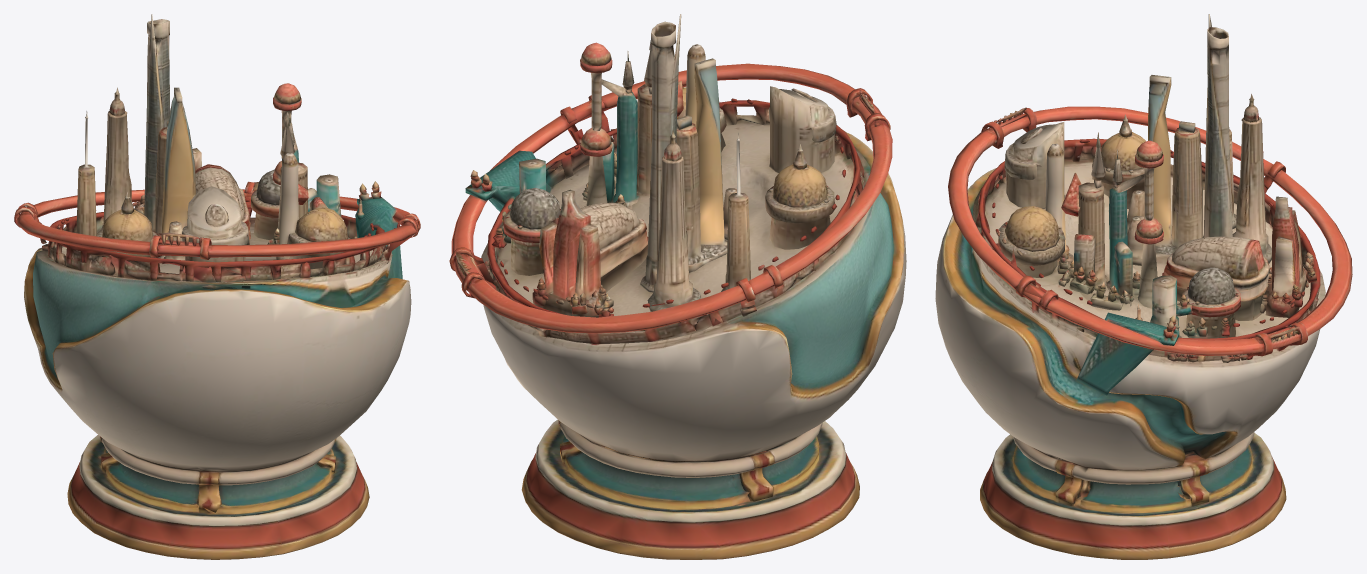
File: red-world-city-diorama-p1.glb
The picture shows the model from 3 angles, left to right: view 1: azimuth 30°, elevation 25°; view 2: azimuth 150°, elevation 25°; view 3: azimuth 270°, elevation 25°; orthographic projection. The views are drawn at different scales.
Visible parts, largest first — view 1: tripo_node_534f7ab8-8f3b-4dc2-add3-399ae83e0899; view 2: tripo_node_534f7ab8-8f3b-4dc2-add3-399ae83e0899; view 3: tripo_node_534f7ab8-8f3b-4dc2-add3-399ae83e0899.
Boxes of the visible parts, <box> form: tripo_node_534f7ab8-8f3b-4dc2-add3-399ae83e0899: <box>14,14,420,559</box>; tripo_node_534f7ab8-8f3b-4dc2-add3-399ae83e0899: <box>449,14,906,559</box>; tripo_node_534f7ab8-8f3b-4dc2-add3-399ae83e0899: <box>935,14,1352,559</box>.
Bounding box in the file's own units: 0.319 × 0.4 × 0.3235.
1 material, 1 textured.
